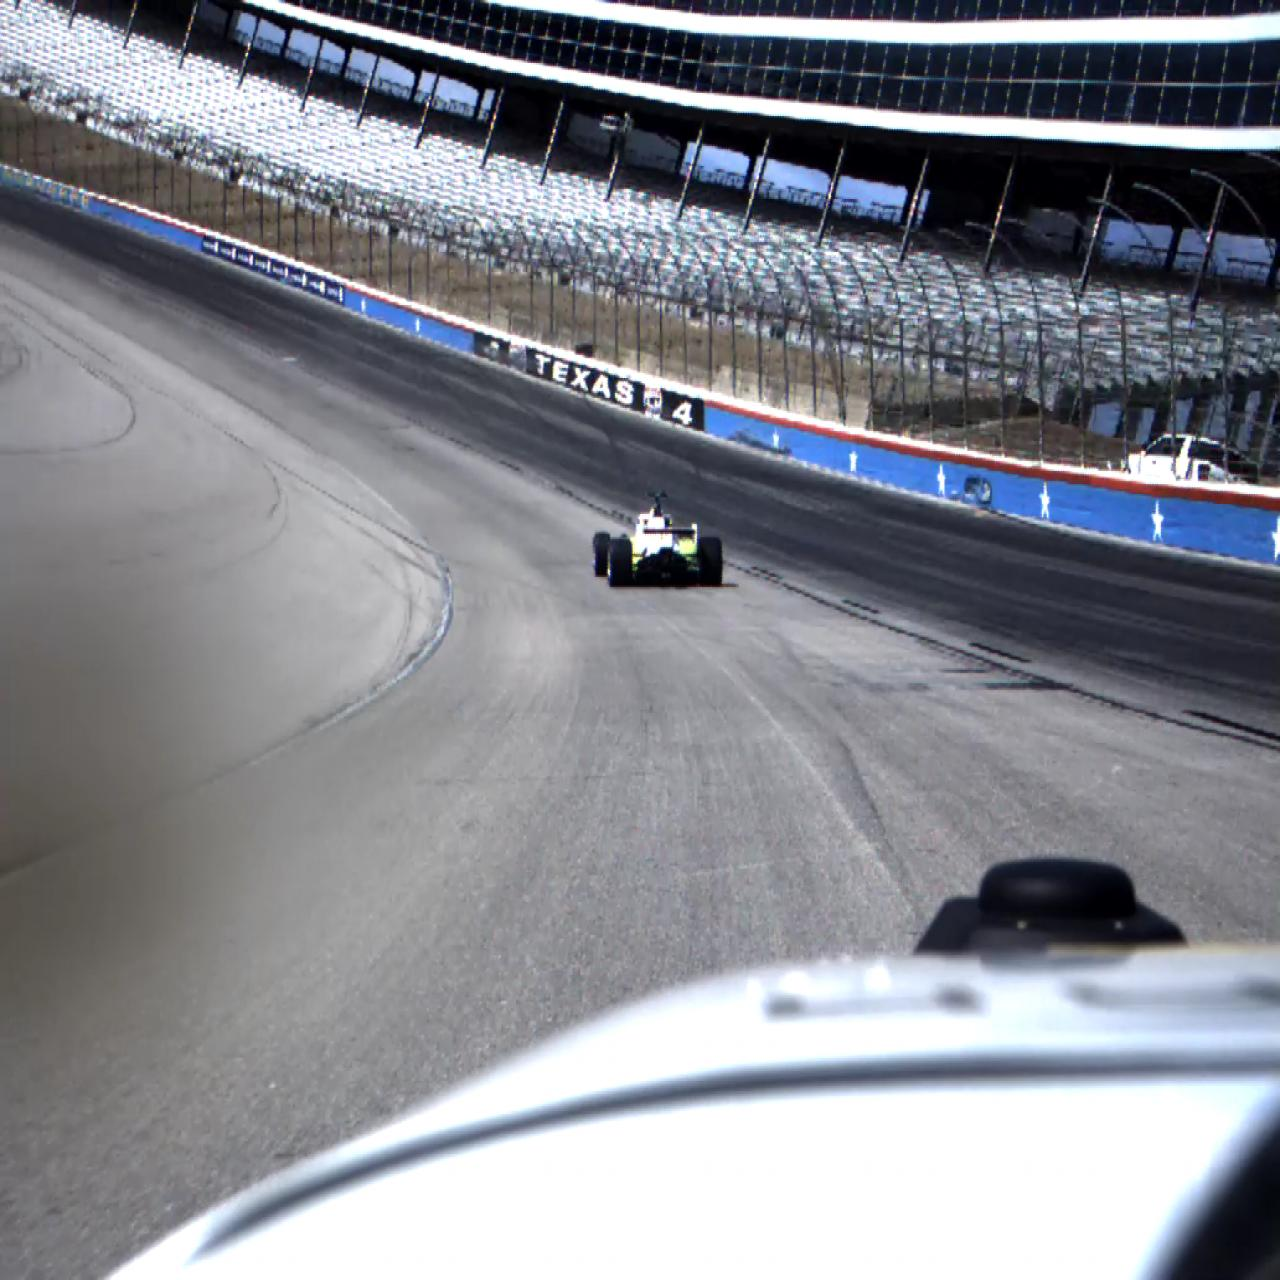AV: (592, 491, 723, 588)
Wheel: (607, 539, 633, 588), (699, 537, 723, 586), (593, 531, 611, 578)
